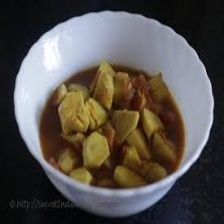sabzi: (34, 56, 192, 193)
